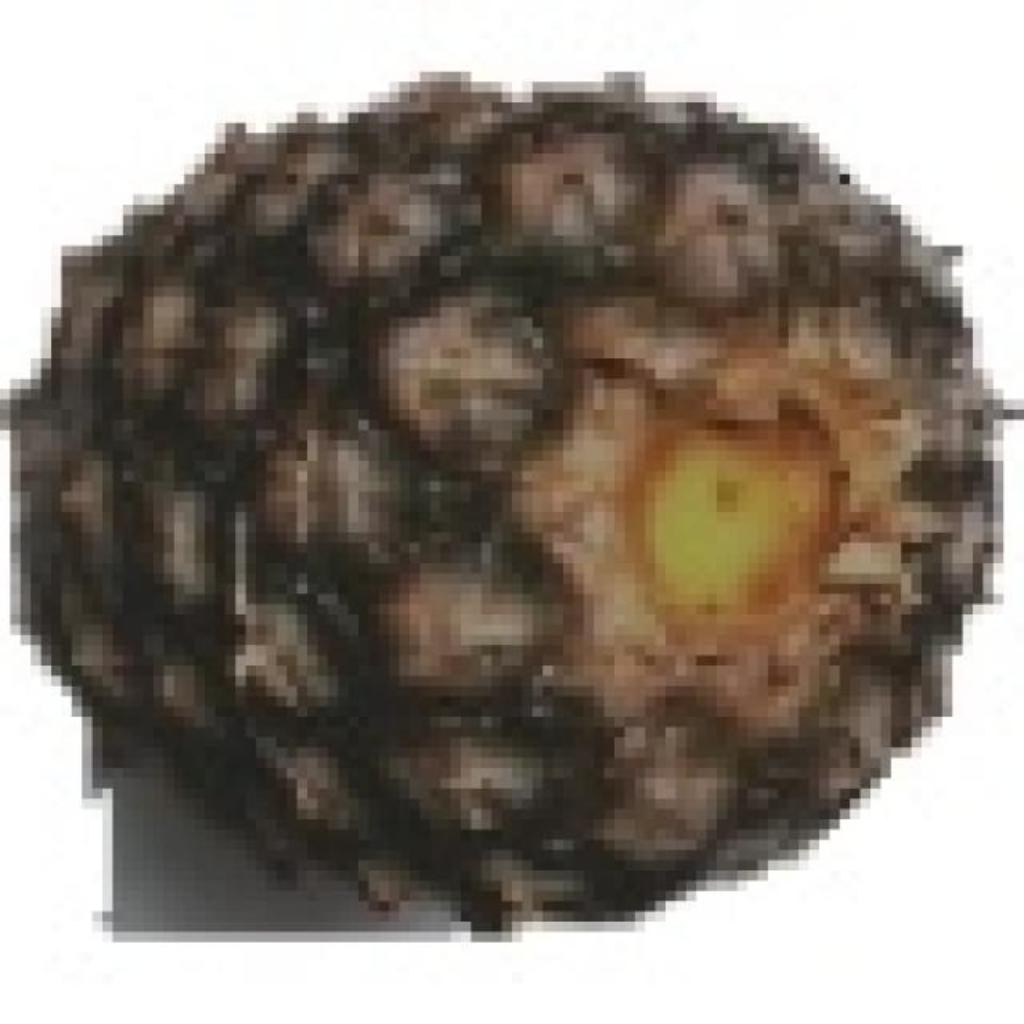pineapple: (31, 61, 1004, 901)
